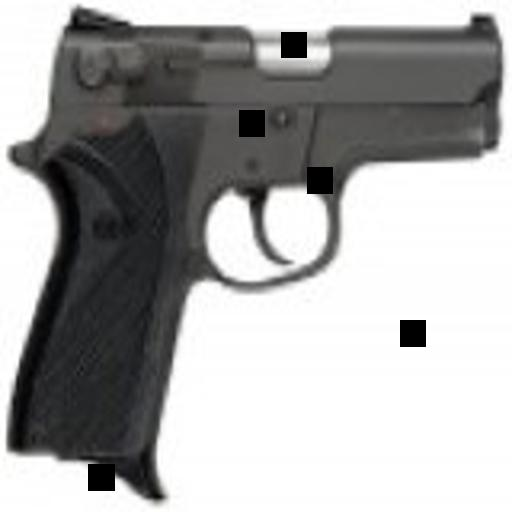Handgun: (2, 7, 504, 489)
